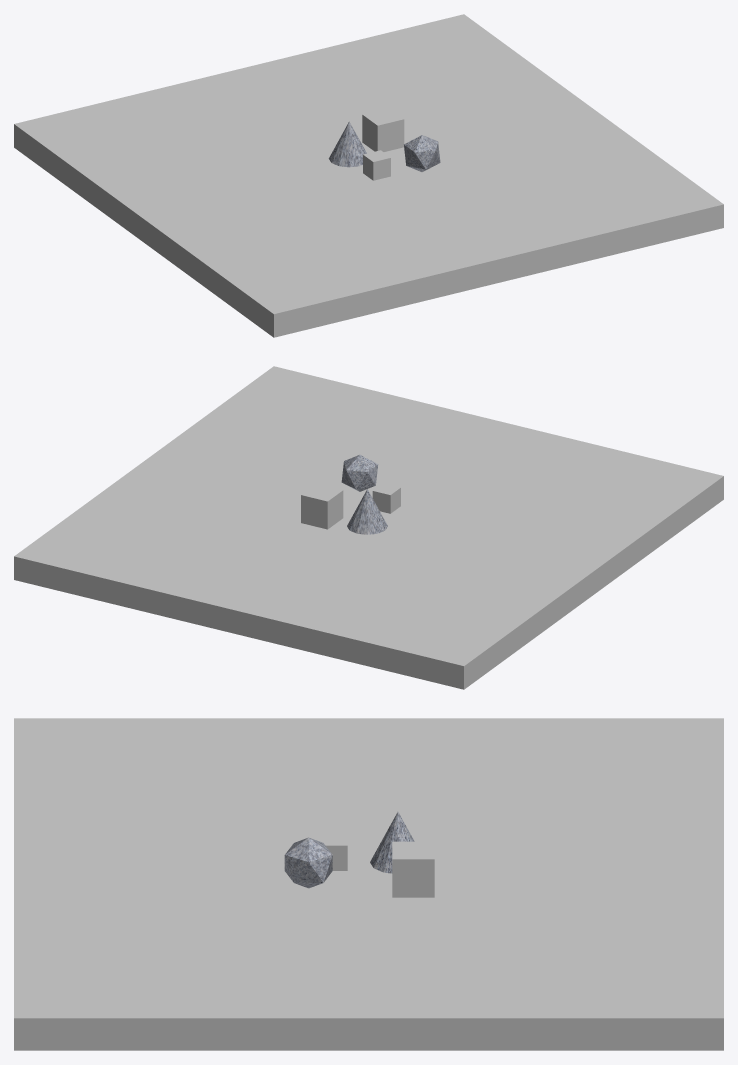
The model's file is loonar-test-scene.gltf.
The picture shows the model from 3 angles, top to bottom: view 1: azimuth 30°, elevation 25°; view 2: azimuth 150°, elevation 25°; view 3: azimuth 270°, elevation 25°; orthographic projection. The views are drawn at different scales.
Visible parts, largest first — view 1: 2_Plane, 1_Cube.001, 3_Icosphere, 3_Cone, 0_Cube; view 2: 2_Plane, 1_Cube.001, 3_Cone, 3_Icosphere, 0_Cube; view 3: 2_Plane, 1_Cube.001, 3_Icosphere, 3_Cone, 0_Cube.
Part boxes in pixels (x1,y1,x2,y2): 2_Plane: [14, 14, 723, 337]; 1_Cube.001: [362, 108, 404, 151]; 3_Icosphere: [404, 135, 440, 171]; 3_Cone: [328, 121, 366, 167]; 0_Cube: [363, 150, 390, 180]; 2_Plane: [14, 366, 723, 689]; 1_Cube.001: [301, 483, 343, 529]; 3_Cone: [347, 489, 387, 534]; 3_Icosphere: [341, 454, 378, 491]; 0_Cube: [372, 483, 400, 513]; 2_Plane: [14, 718, 723, 1050]; 1_Cube.001: [392, 841, 434, 897]; 3_Icosphere: [284, 837, 332, 888]; 3_Cone: [370, 812, 414, 873]; 0_Cube: [319, 833, 347, 870].
Bounding box in the file's own units: 25.2 × 3.28 × 25.2.
